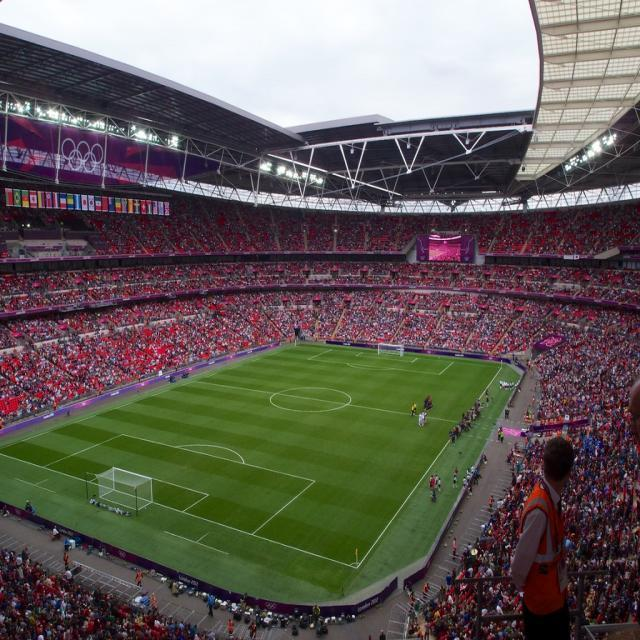ball: (412, 412, 415, 417)
